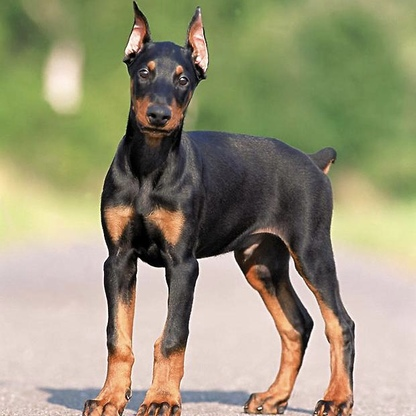doberman: (91, 7, 371, 416)
